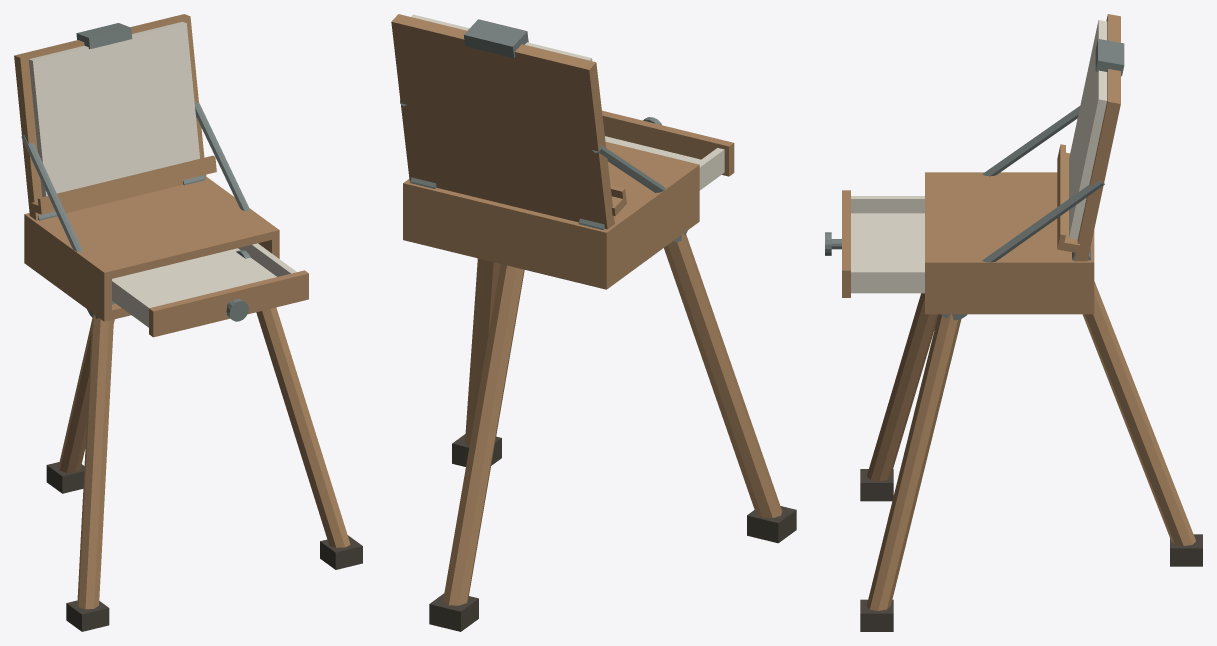
3 renders of one model, left to right at view 1: azimuth 30°, elevation 25°; view 2: azimuth 150°, elevation 25°; view 3: azimuth 270°, elevation 25°, orthographic. The views are drawn at different scales.
Visible parts, largest first — view 1: WholeBlankCanvasPanel, WholeDrawerBayDrawingBox, WholeSplayedLeg0, WholeExtendedOpenDrawer, WholeSplayedLeg1, WholeDrawerFront, WholeRaisedBoxLid, WholeCanvasLowerLedge, WholeSplayedLeg2, WholeLidStay-1, WholeLidStay1, WholeFlatFoot0 (+3 smaller); view 2: WholeRaisedBoxLid, WholeDrawerBayDrawingBox, WholeSplayedLeg2, WholeSplayedLeg0, WholeDrawerFront, WholeSplayedLeg1, WholeUpperBlankPanelRetainer, WholeExtendedOpenDrawer, WholeFlatFoot2, WholeFlatFoot0, WholeLidStay-1, WholeFlatFoot1; view 3: WholeDrawerBayDrawingBox, WholeSplayedLeg1, WholeExtendedOpenDrawer, WholeSplayedLeg2, WholeSplayedLeg0, WholeBlankCanvasPanel, WholeRaisedBoxLid, WholeLidStay1, WholeCanvasLowerLedge, WholeLidStay-1, WholeDrawerFront, WholeUpperBlankPanelRetainer (+3 smaller).
Part boxes in pixels (x1=…): WholeBlankCanvasPanel: x1=28, y1=21, x2=199, y2=196; WholeDrawerBayDrawingBox: x1=24, y1=177, x2=279, y2=321; WholeSplayedLeg0: x1=77, y1=314, x2=113, y2=609; WholeExtendedOpenDrawer: x1=112, y1=243, x2=296, y2=327; WholeSplayedLeg1: x1=256, y1=307, x2=350, y2=547; WholeDrawerFront: x1=149, y1=270, x2=308, y2=337; WholeRaisedBoxLid: x1=14, y1=14, x2=206, y2=220; WholeCanvasLowerLedge: x1=31, y1=155, x2=216, y2=214; WholeSplayedLeg2: x1=58, y1=319, x2=114, y2=472; WholeLidStay-1: x1=21, y1=134, x2=82, y2=251; WholeLidStay1: x1=194, y1=102, x2=249, y2=211; WholeFlatFoot0: x1=66, y1=600, x2=109, y2=631; WholeRaisedBoxLid: x1=391, y1=14, x2=614, y2=229; WholeDrawerBayDrawingBox: x1=403, y1=142, x2=699, y2=289; WholeSplayedLeg2: x1=443, y1=264, x2=524, y2=605; WholeSplayedLeg0: x1=664, y1=233, x2=782, y2=518; WholeDrawerFront: x1=602, y1=110, x2=734, y2=176; WholeSplayedLeg1: x1=465, y1=258, x2=500, y2=445; WholeUpperBlankPanelRetainer: x1=464, y1=19, x2=528, y2=57; WholeExtendedOpenDrawer: x1=605, y1=136, x2=724, y2=190; WholeFlatFoot2: x1=429, y1=593, x2=478, y2=631; WholeFlatFoot0: x1=747, y1=506, x2=796, y2=543; WholeLidStay-1: x1=592, y1=145, x2=665, y2=192; WholeFlatFoot1: x1=452, y1=434, x2=501, y2=466; WholeDrawerBayDrawingBox: x1=925, y1=172, x2=1094, y2=314; WholeSplayedLeg1: x1=866, y1=314, x2=961, y2=610; WholeExtendedOpenDrawer: x1=851, y1=196, x2=924, y2=293; WholeSplayedLeg2: x1=1082, y1=281, x2=1195, y2=546; WholeSplayedLeg0: x1=866, y1=293, x2=938, y2=481; WholeBlankCanvasPanel: x1=1069, y1=20, x2=1107, y2=239; WholeRaisedBoxLid: x1=1074, y1=14, x2=1120, y2=261; WholeLidStay1: x1=982, y1=180, x2=1104, y2=262; WholeCanvasLowerLedge: x1=1057, y1=144, x2=1079, y2=252; WholeLidStay-1: x1=982, y1=106, x2=1079, y2=176; WholeDrawerFront: x1=842, y1=190, x2=850, y2=297; WholeUpperBlankPanelRetainer: x1=1095, y1=39, x2=1124, y2=76.
Size of the model in its own units: 0.93 by 1.53 by 1.03.
